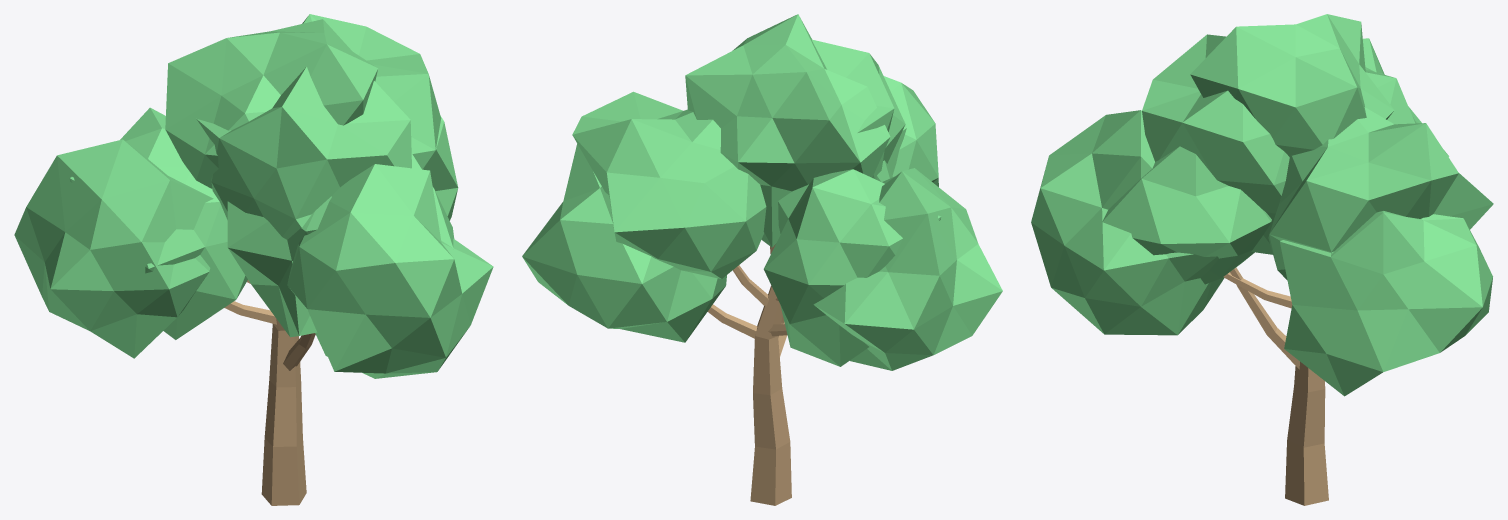
Rendered from Simple_007.fbx.
3 renders of one model, left to right at view 1: azimuth 30°, elevation 25°; view 2: azimuth 150°, elevation 25°; view 3: azimuth 270°, elevation 25°, orthographic. The views are drawn at different scales.
Parts seen in each view (by area): view 1: Simple.007; view 2: Simple.007; view 3: Simple.007.
Boxes of the visible parts, x1,y1,x2,y2 form: Simple.007: (14, 14, 493, 505); Simple.007: (522, 14, 1002, 505); Simple.007: (1031, 14, 1493, 505).
Bounding box in the file's own units: 6.41 × 6.78 × 6.
